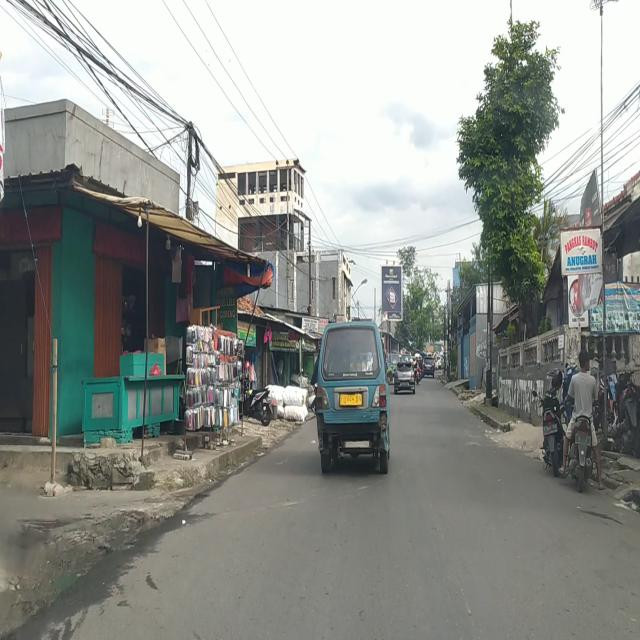Sewer Cover: (569, 504, 630, 527)
